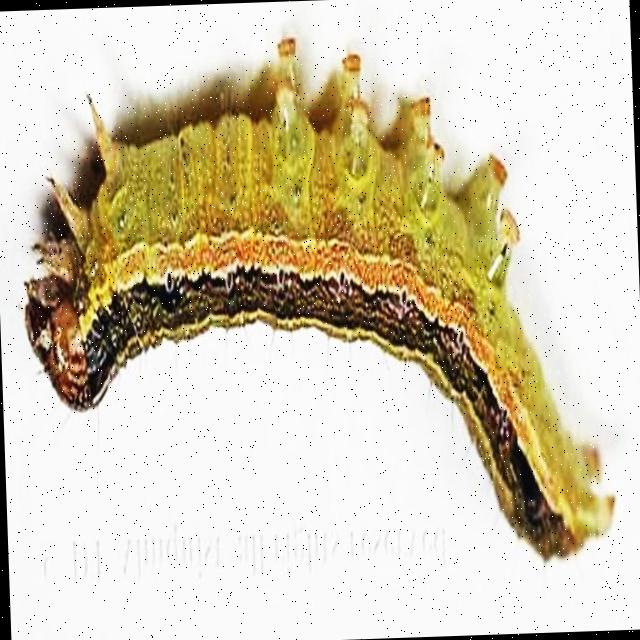worm: (13, 27, 619, 583)
